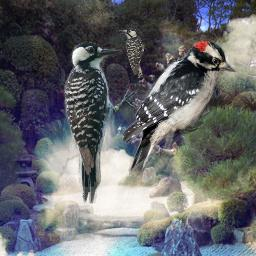Woodpecker: (122, 41, 241, 177), (61, 41, 143, 204), (119, 28, 148, 88)
